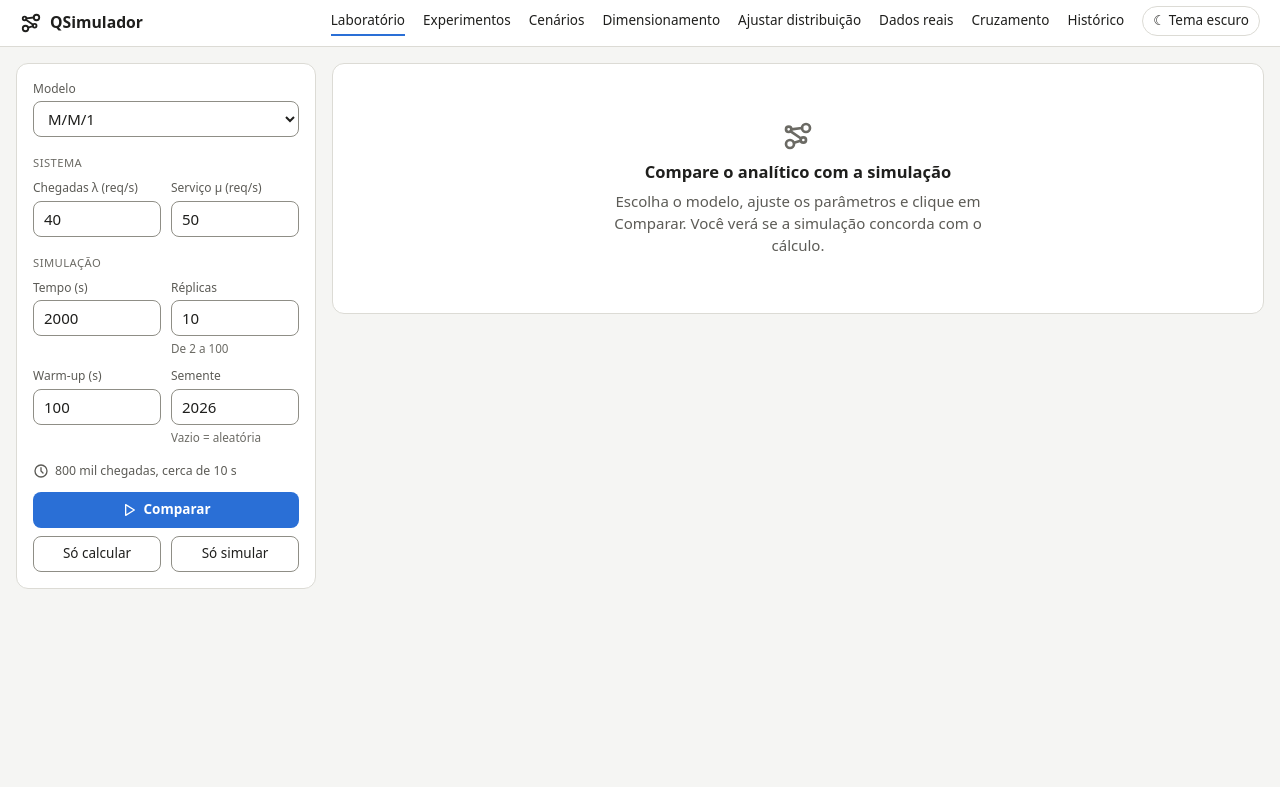
Test case: experimentos do M/G/1 › compara distribuições com a mesma média e mostra uma curva por distribuição
Select "M/G/1" in the dropdown labelled "Modelo" at (166, 119), box [33, 101, 299, 137]
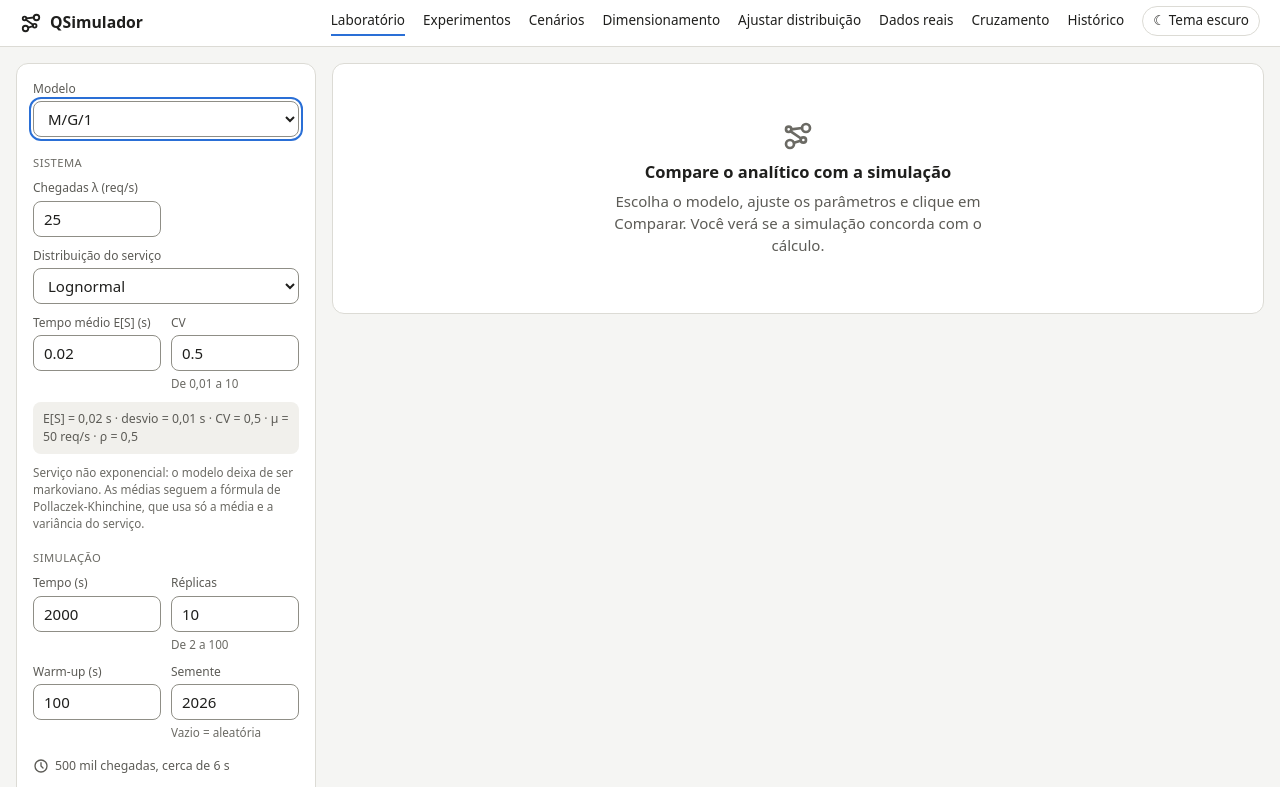
Click the button "Experimentos" at (467, 23), box [423, 10, 511, 36]
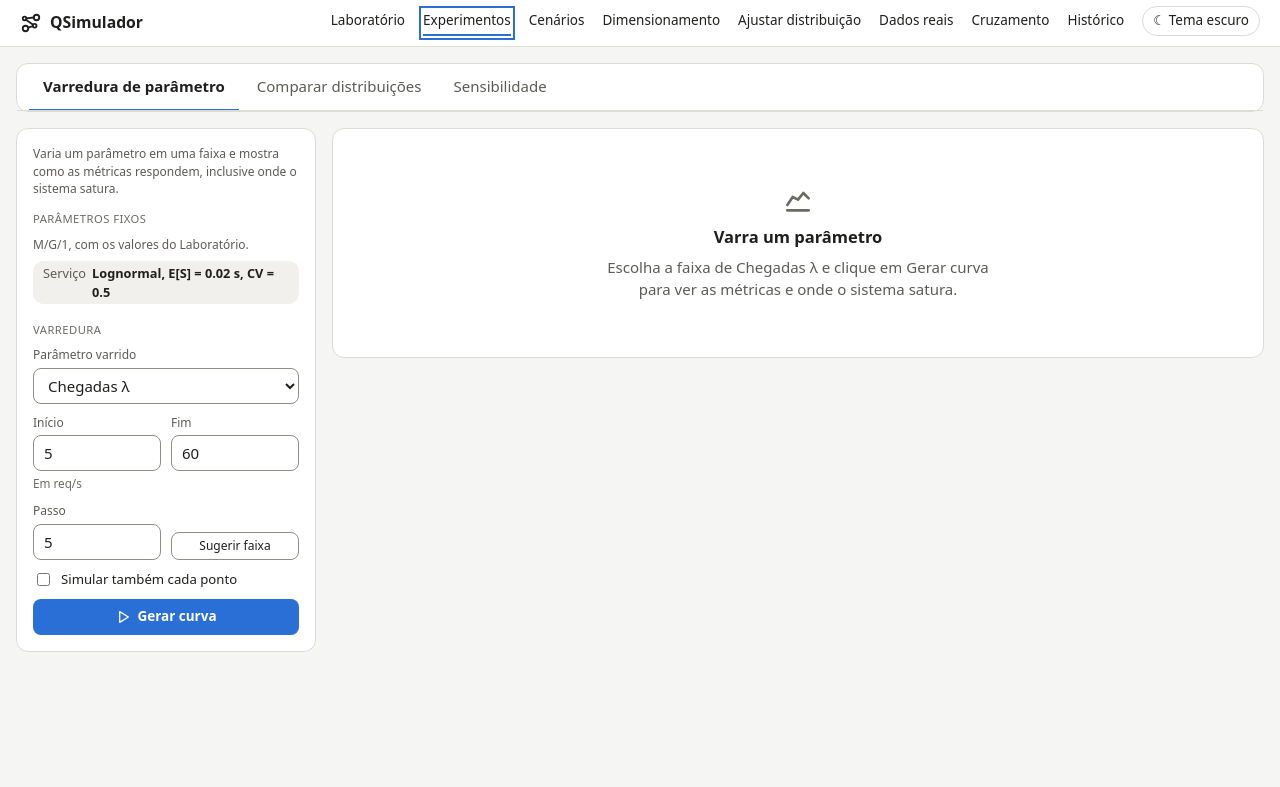
Click the tab "Comparar distribuições" at (339, 88), box [243, 64, 436, 111]
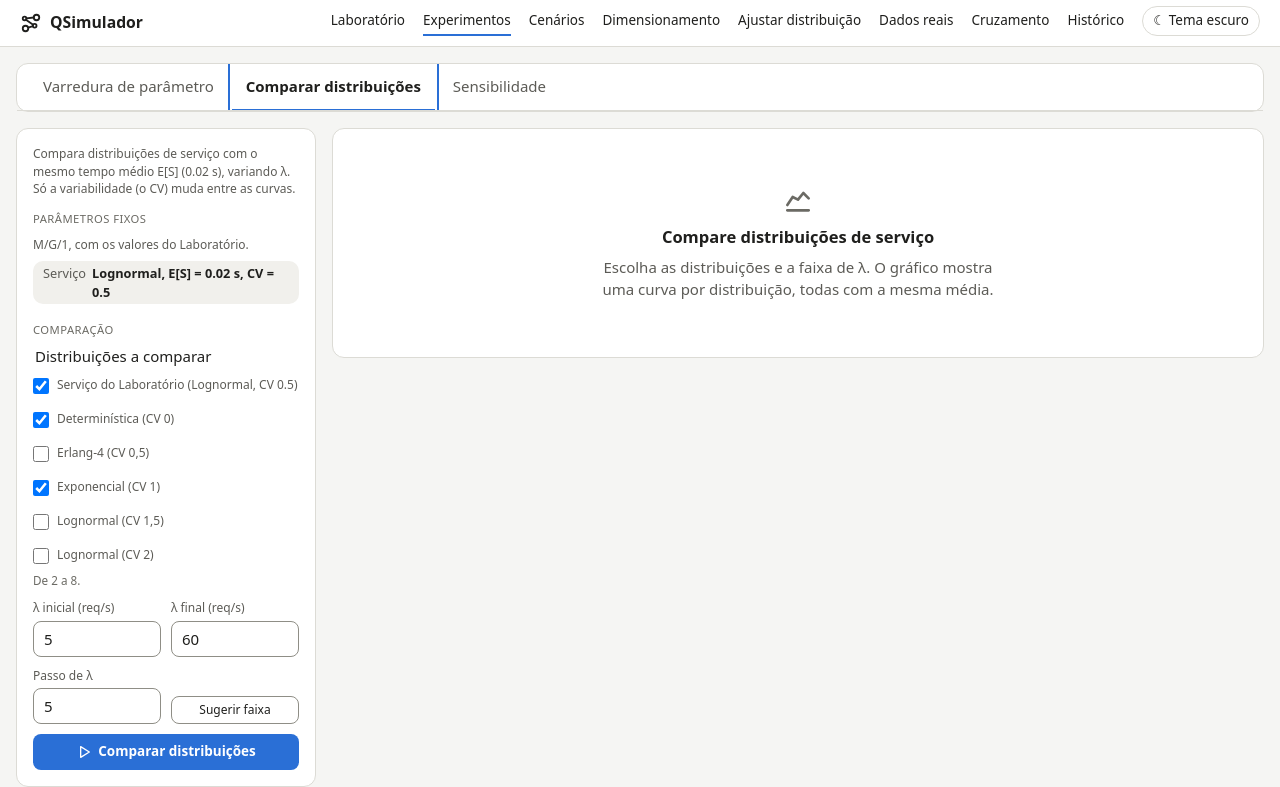
Now the checkbox labelled "Serviço do Laboratório (Lognormal, CV 0.5)" is checked, box [33, 378, 49, 394]
Now the checkbox labelled "Determinística (CV 0)" is checked, box [33, 412, 49, 428]
Now the checkbox labelled "Exponencial (CV 1)" is checked, box [33, 480, 49, 496]
Click the button "Comparar distribuições" at (166, 752), box [33, 734, 299, 770]
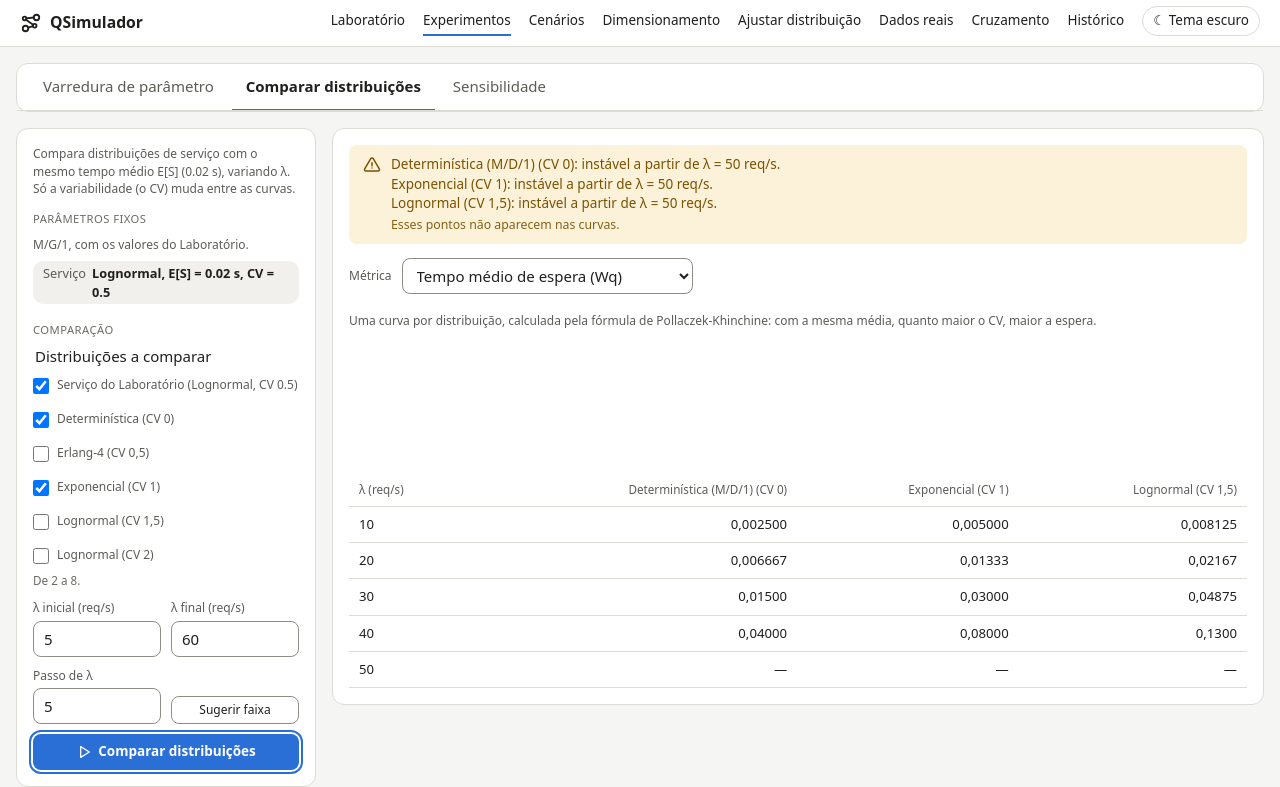
Now the column headings read "λ (req/s)", "Determinística (M/D/1) (CV 0)", "Exponencial (CV 1)", "Lognormal (CV 1,5)", in this order, box [349, 473, 468, 507]; [468, 473, 797, 507]; [797, 473, 1019, 507]; [1019, 473, 1247, 507]
Now the text "instável a partir de λ = 50 req/s" is shown 3 times, box [391, 155, 780, 175]; [391, 175, 713, 193]; [391, 194, 717, 212]
